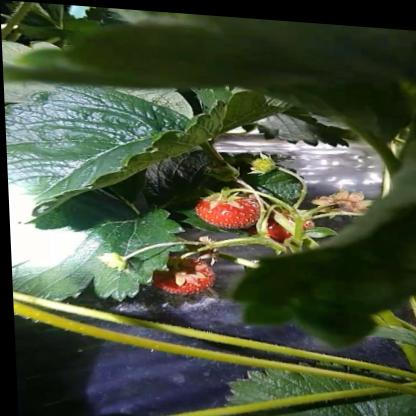ripe: (252, 202, 326, 246), (196, 189, 268, 226), (147, 255, 215, 292)
